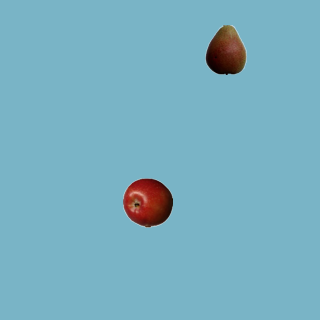Apple Braeburn: (122, 177, 172, 227)
Pear Forelle: (200, 24, 250, 74)
